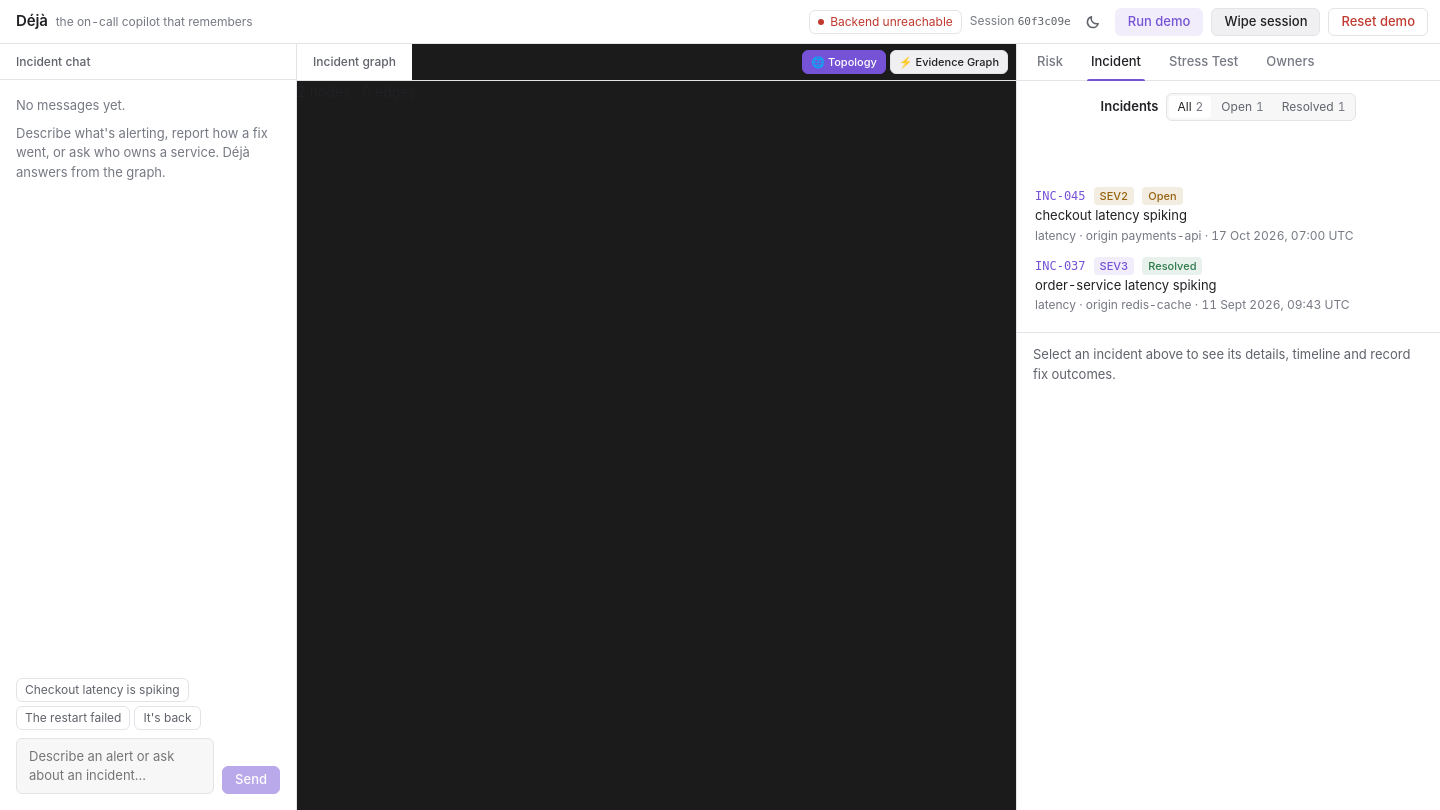
Test: startup and layout › says so when the backend is unreachable and re-checks on click
Click the button with aria-label "Backend status". click: (885, 22)
box: [809, 10, 962, 34]
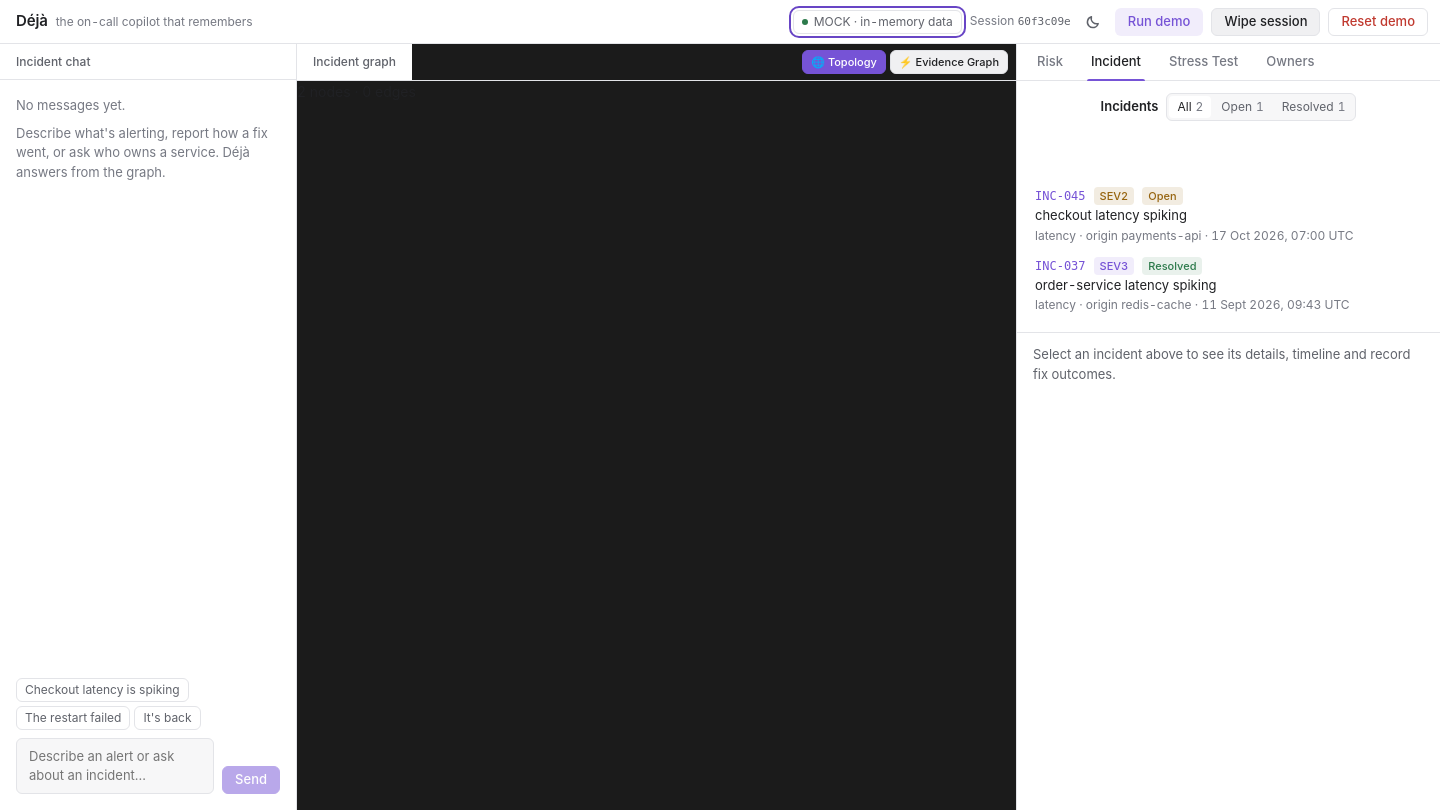
Expected: the button "MOCK · in-memory data" is shown, [793, 10, 962, 34]
